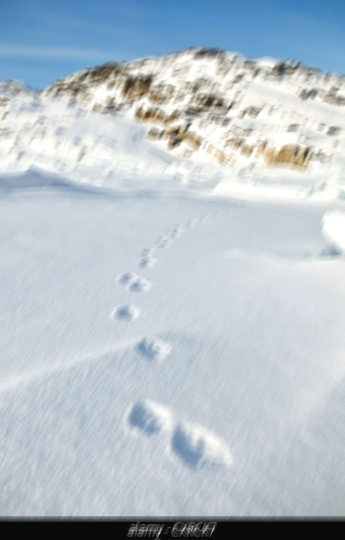fox: (104, 383, 246, 489)
